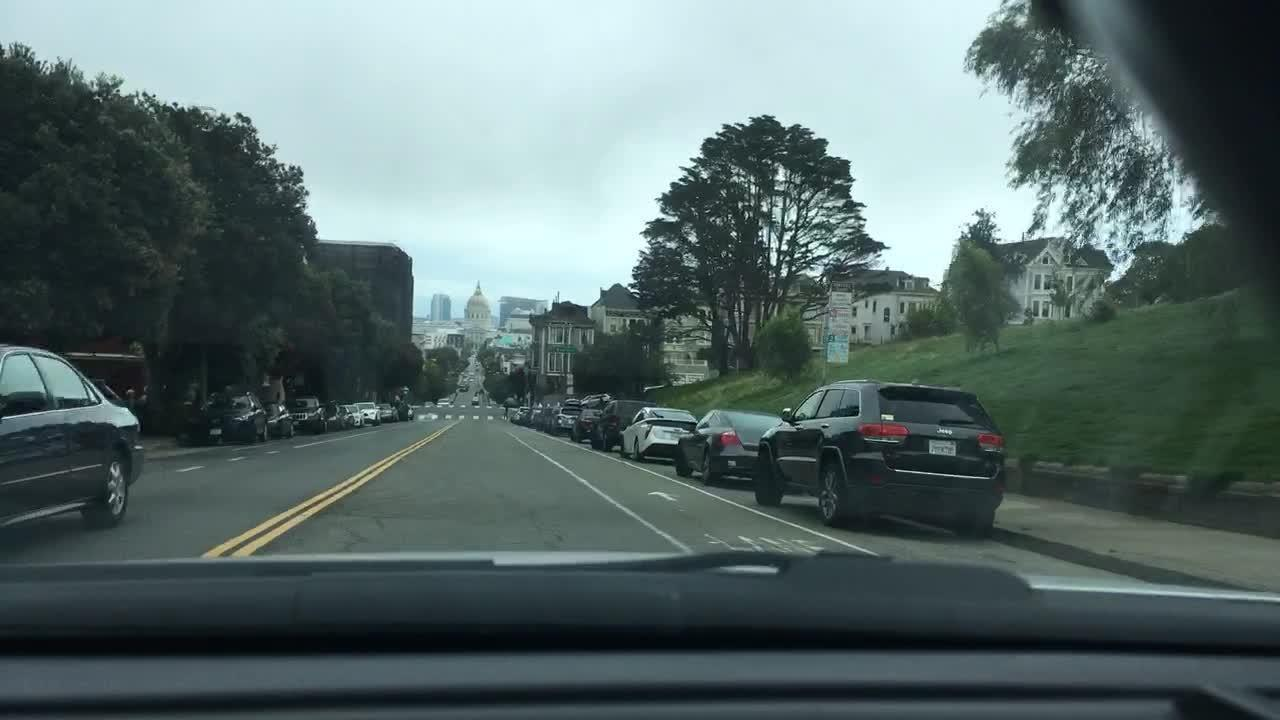jeep: (930, 419, 959, 441)
